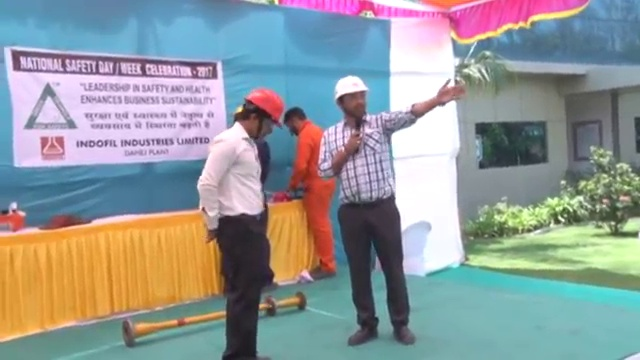helmet: (244, 86, 287, 130), (331, 74, 370, 102)
helmet_off: (284, 106, 308, 139)
helmet_on: (234, 81, 286, 143), (331, 75, 372, 126)
person: (318, 73, 471, 348), (199, 82, 285, 360), (282, 104, 338, 280)
